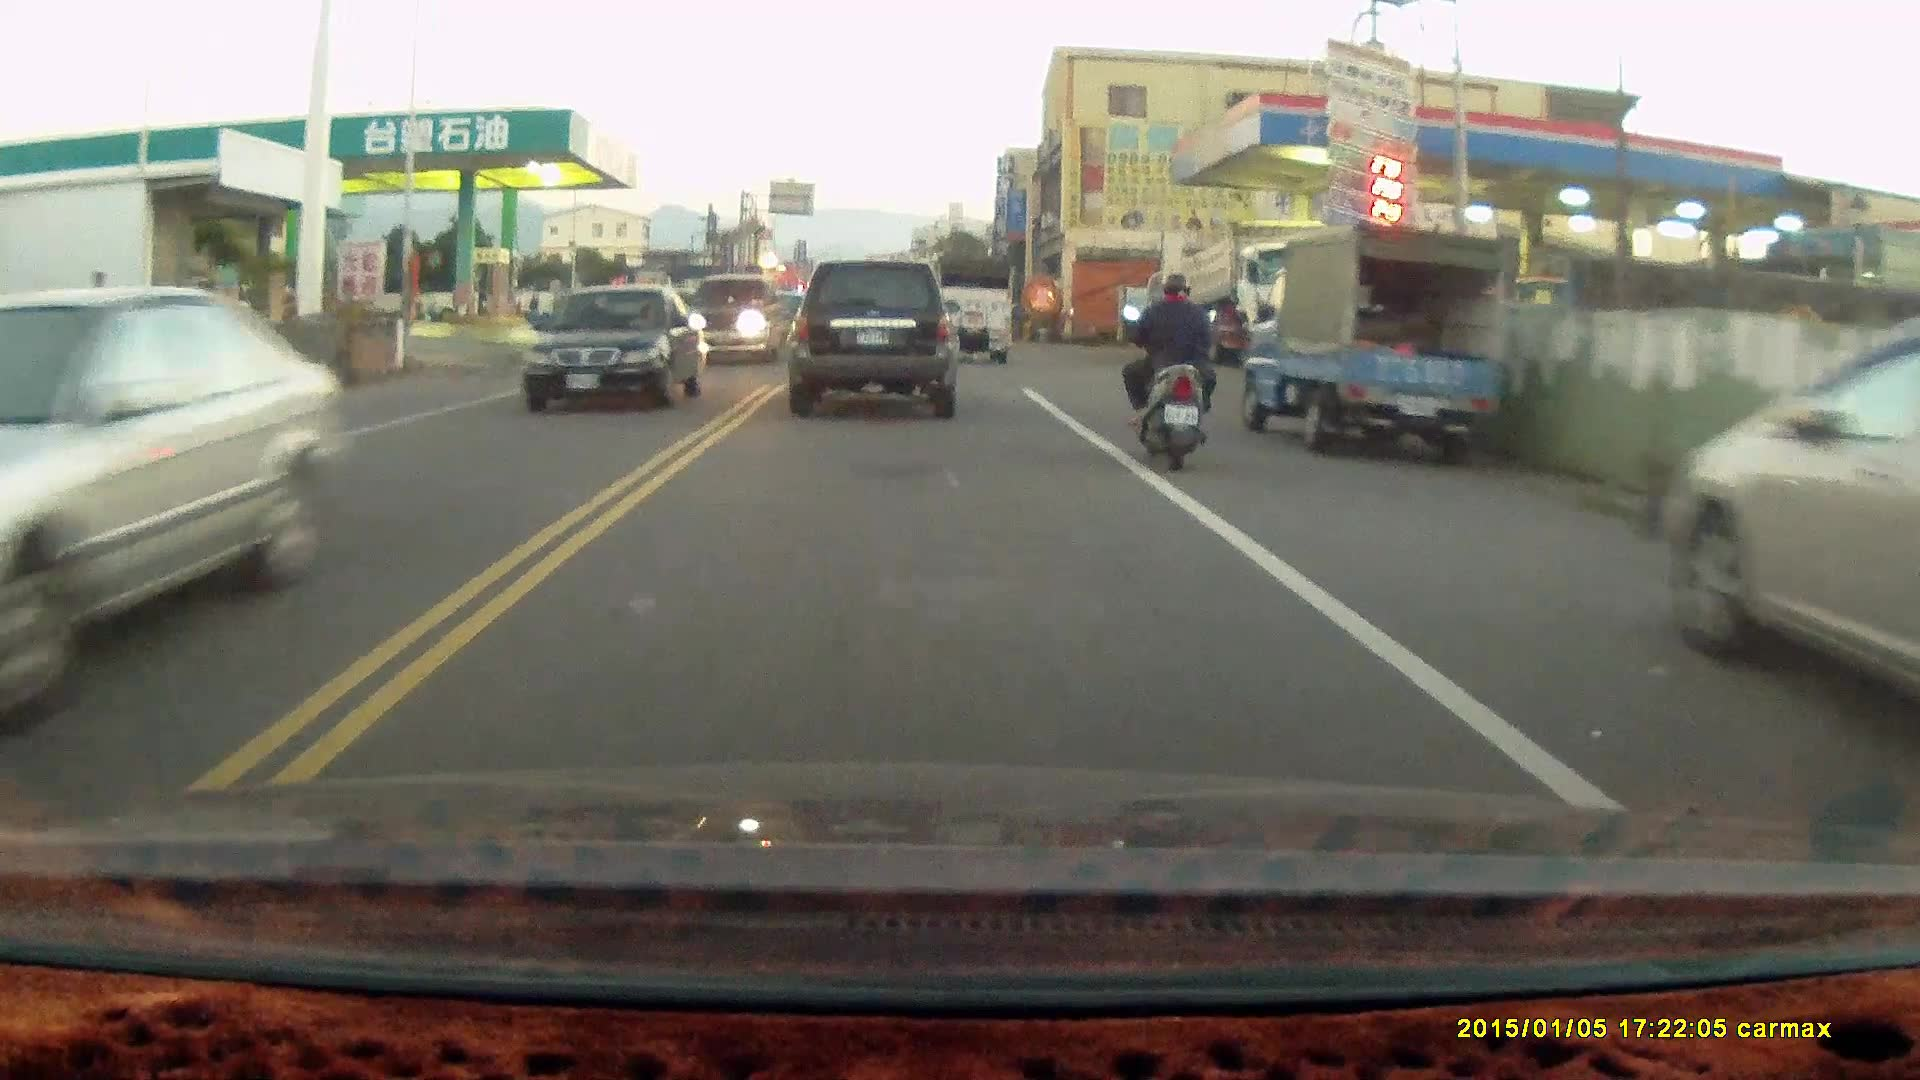rider: (1122, 274, 1222, 473)
vehicle: (1, 280, 347, 692), (1656, 309, 1920, 728), (1243, 222, 1517, 454), (787, 257, 959, 413), (526, 286, 713, 413), (921, 251, 1017, 362), (681, 274, 788, 373)
